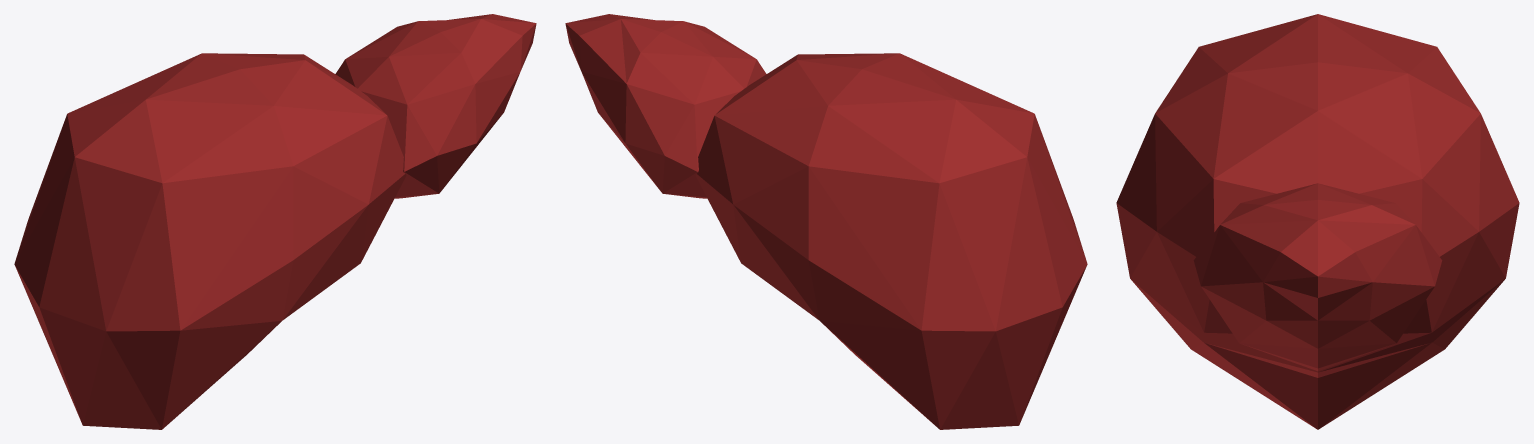
The model's file is liver.FBX.
3 views of the same model, side by side, from view 1: azimuth 30°, elevation 25°; view 2: azimuth 150°, elevation 25°; view 3: azimuth 270°, elevation 25° (orthographic). The views are drawn at different scales.
Visible parts, largest first — view 1: liver; view 2: liver; view 3: liver.
Part boxes in pixels (box(x1,y1,x2,y2)): liver: box(14, 14, 536, 429); liver: box(565, 14, 1087, 429); liver: box(1116, 14, 1519, 429).
Bounding box in the file's own units: 0.5689 × 0.3617 × 0.319.
